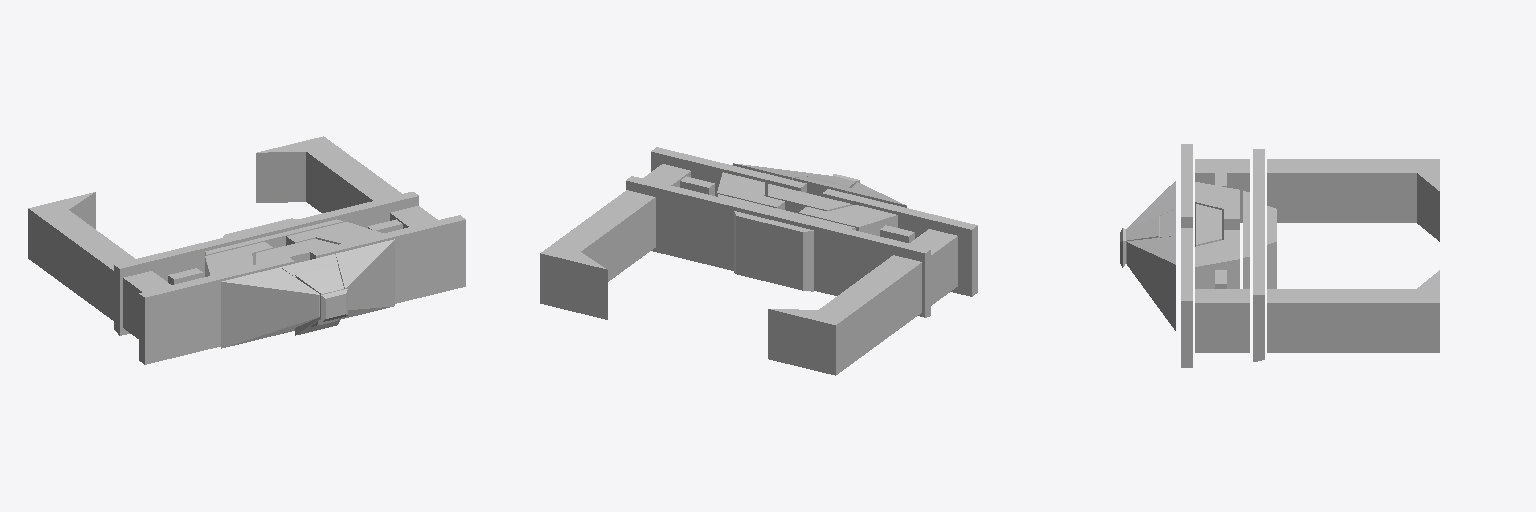
File: recognizer.obj
The picture shows the model from 3 angles: view 1: azimuth 30°, elevation 25°; view 2: azimuth 150°, elevation 25°; view 3: azimuth 270°, elevation 25°; orthographic projection.
Visible parts, largest first — view 1: LegA02, LegB02, Shoulder01, Shoulder02, Head02, Middle_Bar, Head04, Head01, LegA01, Chest03, Chest02, Chest01 (+3 smaller); view 2: Middle_Bar, LegA02, LegB02, Lower_Midd, Shoulder01, Shoulder02, LegA01, Chest03, Chest02, Chest01, LegB01; view 3: LegB02, LegA02, LegB01, Head04, Middle_Bar, Chest02, Shoulder02, LegA01, Chest03, Shoulder01, Chest01, Head01 (+3 smaller).
Part boxes in pixels (x1,y1,x2,y2): LegA02: (28, 192, 134, 320); LegB02: (256, 136, 401, 212); Shoulder01: (139, 257, 294, 364); Shoulder02: (310, 215, 465, 303); Head02: (221, 267, 319, 348); Middle_Bar: (114, 192, 418, 335); Head04: (336, 239, 394, 319); Head01: (295, 265, 347, 335); LegA01: (123, 271, 170, 338); Chest03: (205, 242, 272, 276); Chest02: (286, 222, 383, 245); Chest01: (256, 239, 337, 264); Middle_Bar: (626, 176, 930, 317); LegA02: (768, 255, 921, 375); LegB02: (540, 190, 655, 319); Lower_Midd: (734, 211, 813, 291); Shoulder01: (822, 189, 977, 296); Shoulder02: (651, 147, 806, 196); LegA01: (909, 229, 957, 305); Chest03: (799, 205, 897, 235); Chest02: (717, 172, 784, 209); Chest01: (768, 184, 851, 213); LegB01: (643, 164, 690, 186); LegB02: (1267, 270, 1439, 352); LegA02: (1267, 159, 1439, 241); LegB01: (1195, 289, 1249, 352); Head04: (1127, 236, 1175, 330); Middle_Bar: (1253, 149, 1264, 361); Chest02: (1195, 230, 1239, 288); Shoulder02: (1181, 228, 1192, 367); LegA01: (1195, 159, 1249, 222); Chest03: (1195, 182, 1239, 246); Shoulder01: (1181, 144, 1192, 227); Chest01: (1196, 204, 1221, 245); Head01: (1120, 216, 1159, 267).
Bounding box in the file's own units: 300 × 60 × 259.